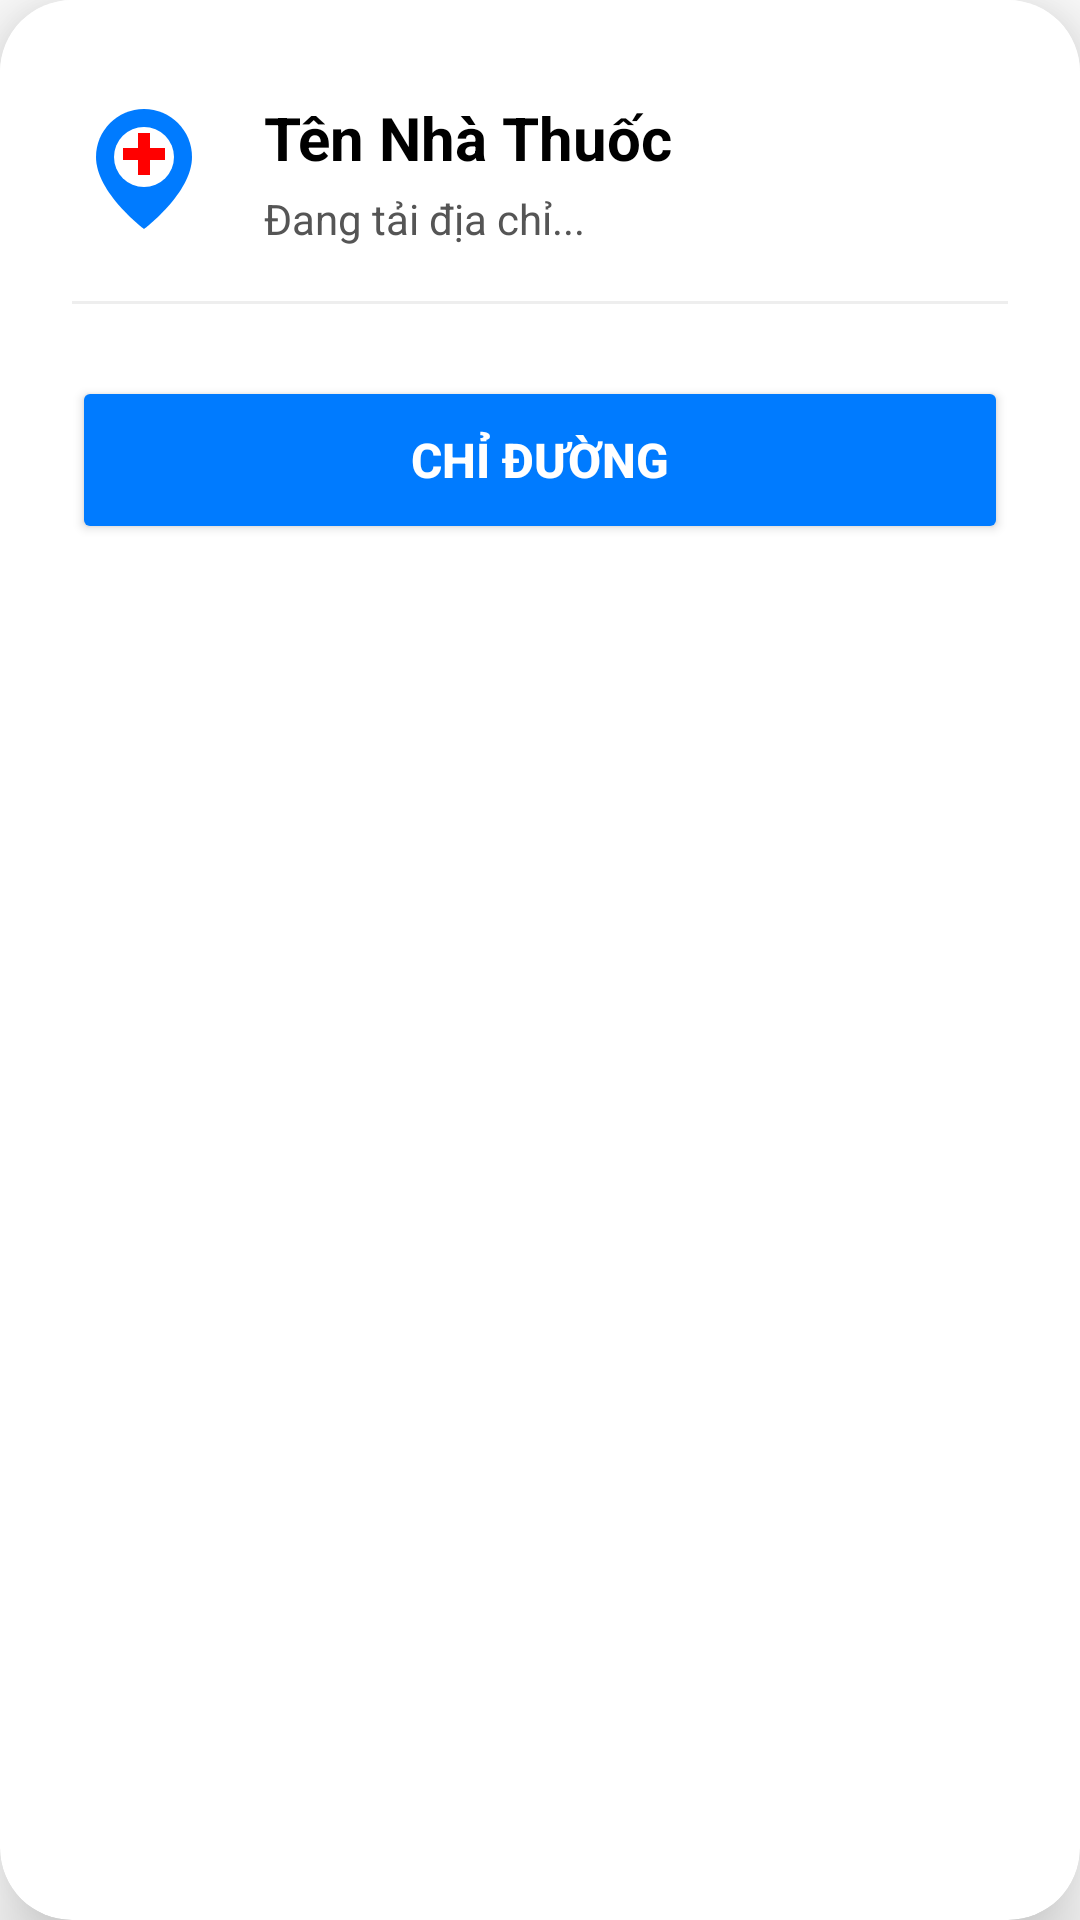

Screen size 1080 × 1920. Icon name, then its center in pixels as (x,y):
pharmacy: (144,169)
